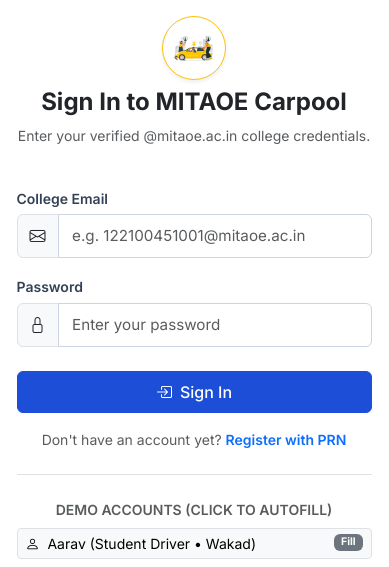
Frontend Form Validation & Calculator Component Tests › Login form validates @mitaoe.ac.in domain
Type "user@gmail.com" into the field with placeholder "e.g. 122100451001@mitaoe.ac.in".
click(214, 236); type("user@gmail.com")  # box [58,214,372,258]
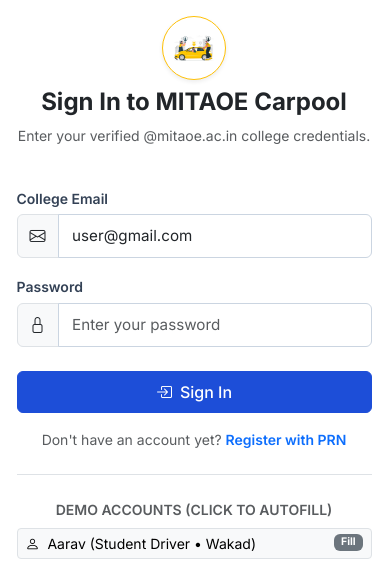
Click the button "Sign In".
click(194, 392)  # box [16,371,372,413]
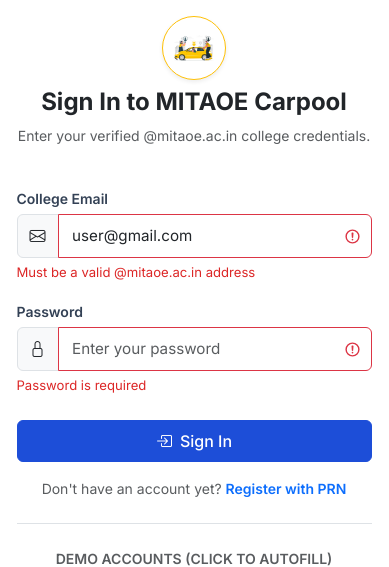
Check: the text "Must be a valid @mitaoe.ac.in address" is shown, box [16,264,255,280]
